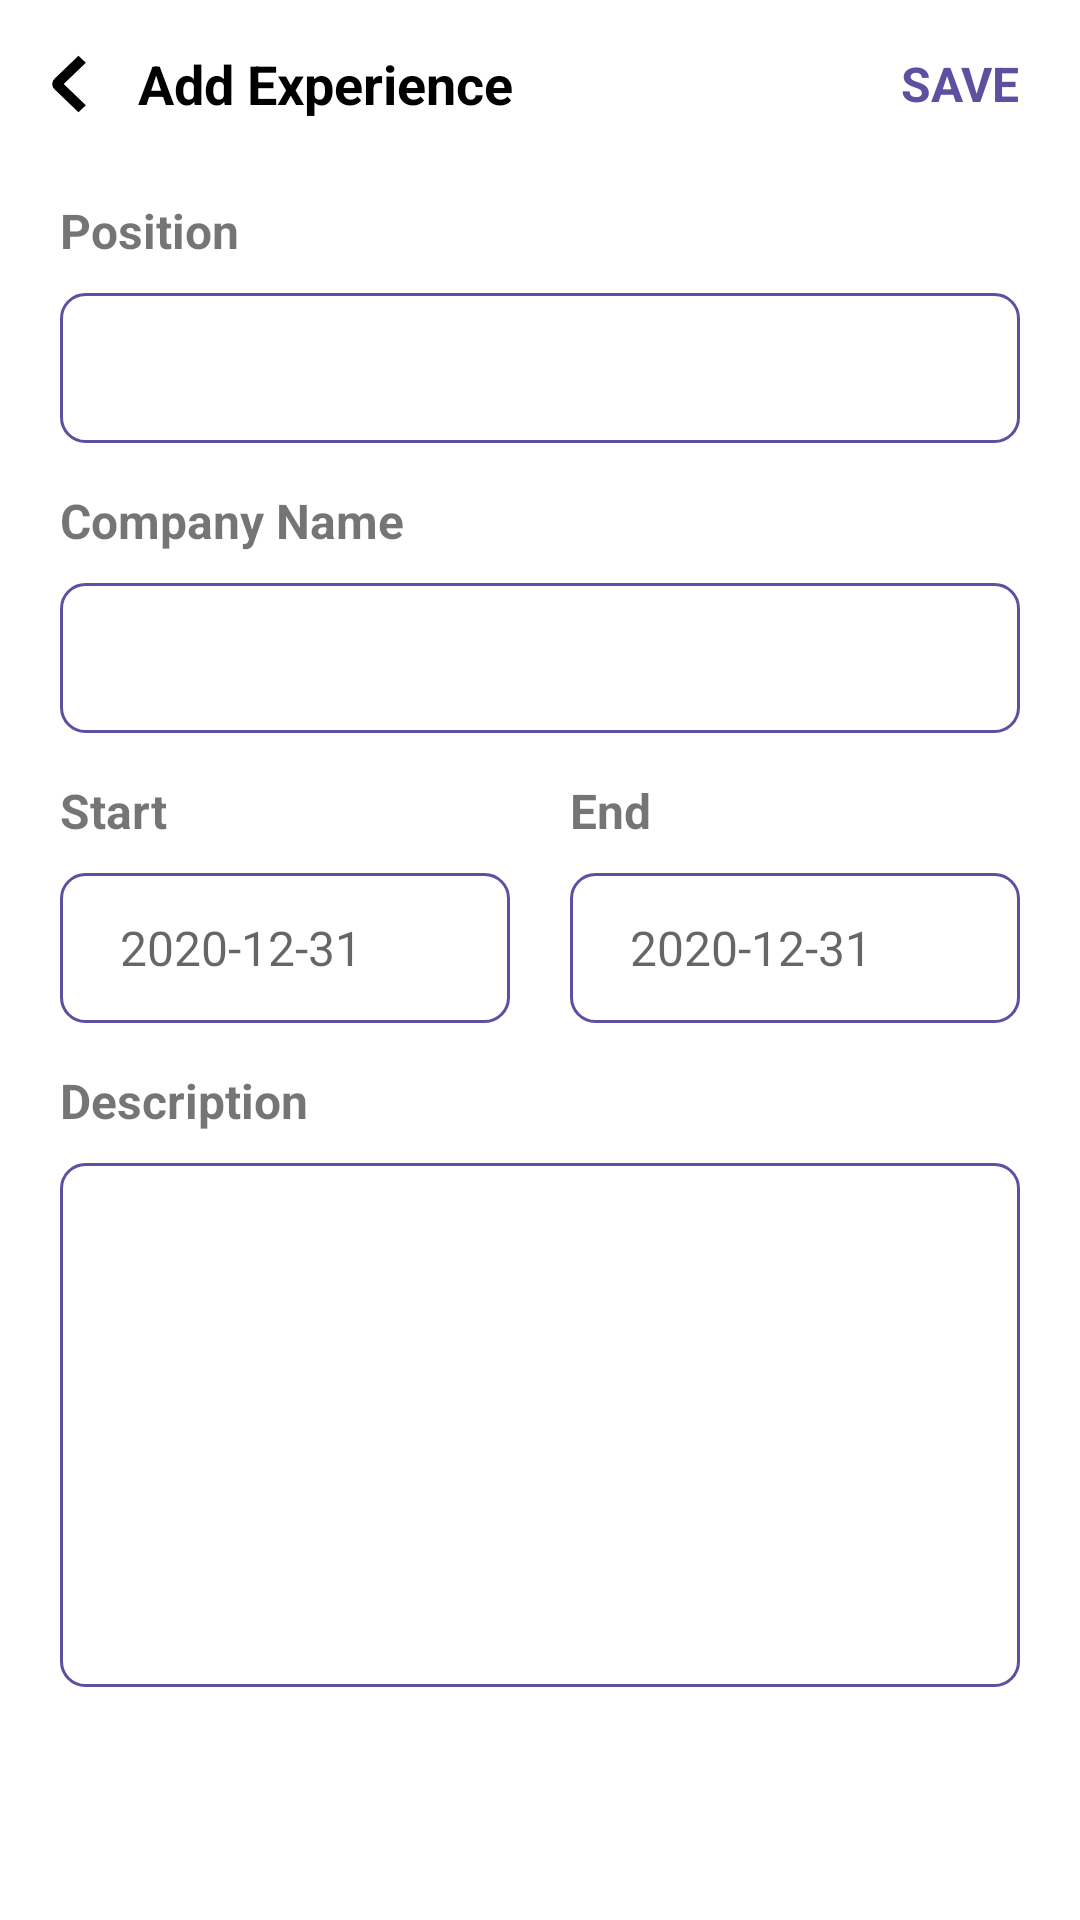

Locate icon controls on the screen. Image size 1080 x 1920, boxes as (x1, y1, x2, y2).
btnback: (52, 56, 86, 112)
